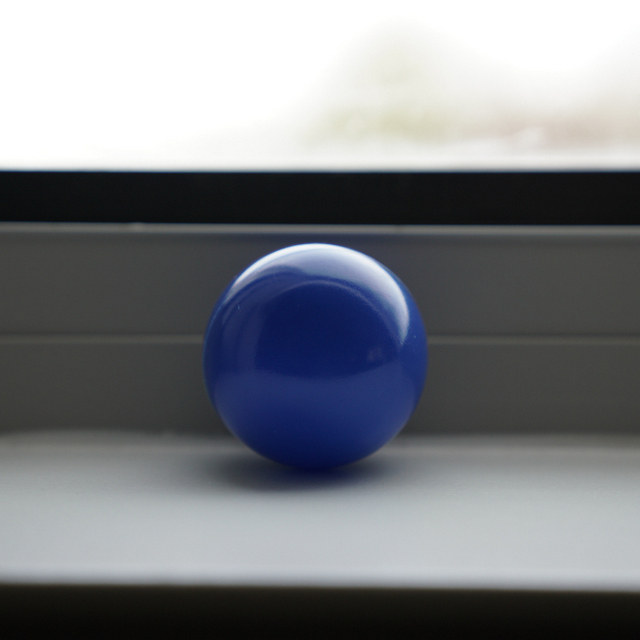Ball: (204, 244, 426, 465)
